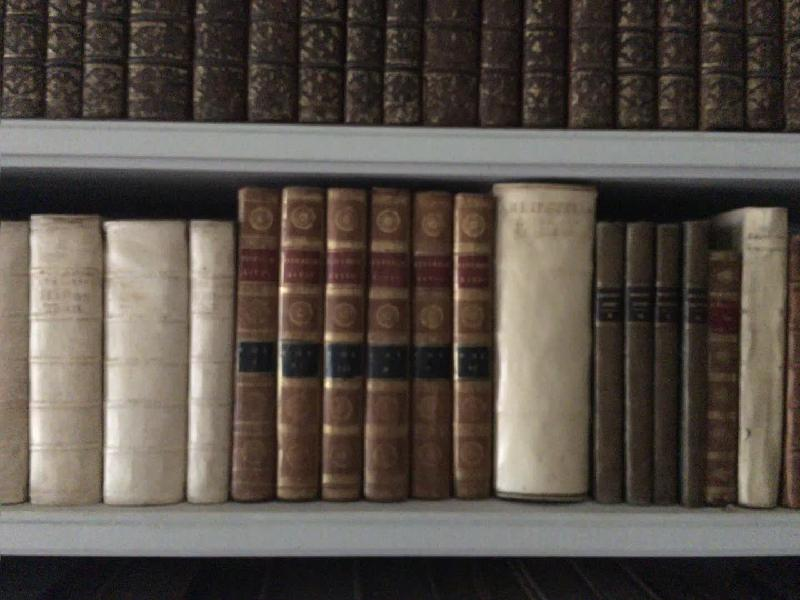Kk4-14: (488, 174, 593, 508)
Kk4-15_16: (590, 210, 659, 512)
Kk4-17_18: (653, 216, 704, 509)
Kk4-19: (703, 244, 742, 510)
Kk4-20: (738, 200, 783, 513)
Kk4-3_7: (2, 206, 239, 523)
Kk4-8_13: (224, 183, 501, 508)
